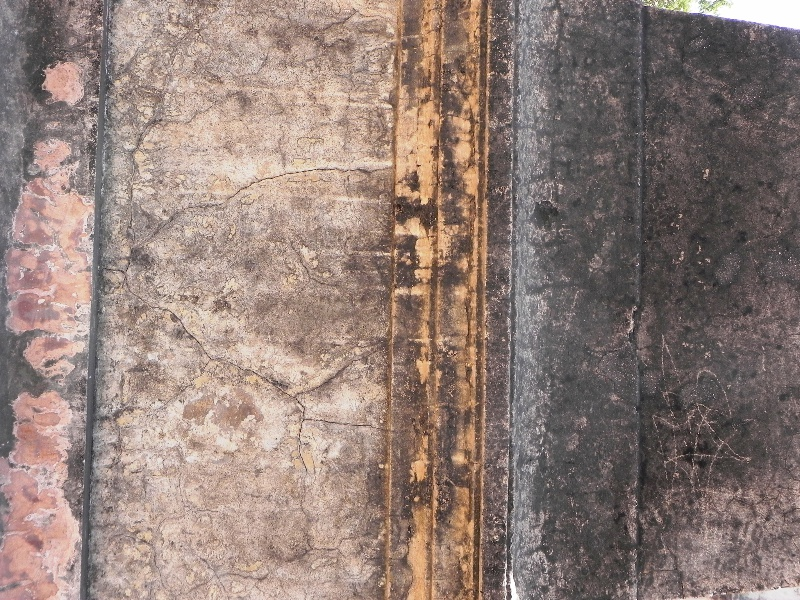Crack: (224, 163, 351, 207)
